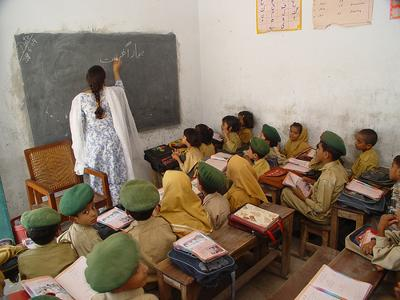person: (71, 57, 146, 208)
